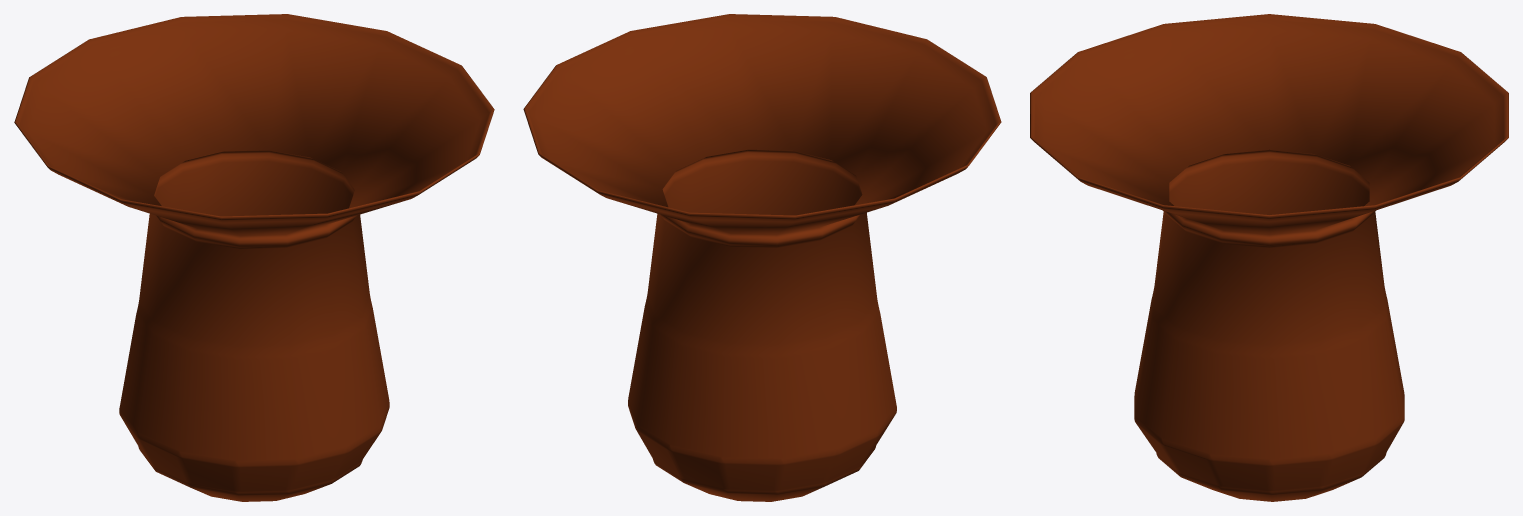
File: dandang.fbx
3 views of the same model, side by side, from view 1: azimuth 30°, elevation 25°; view 2: azimuth 150°, elevation 25°; view 3: azimuth 270°, elevation 25° (orthographic).
Visible parts, largest first — view 1: dandang; view 2: dandang; view 3: dandang.
Boxes of the visible parts, box(x1,y1,x2,y2) form: dandang: box(14, 14, 494, 501); dandang: box(523, 14, 1001, 501); dandang: box(1030, 14, 1508, 501).
Bounding box in the file's own units: 110 × 90.23 × 110.
